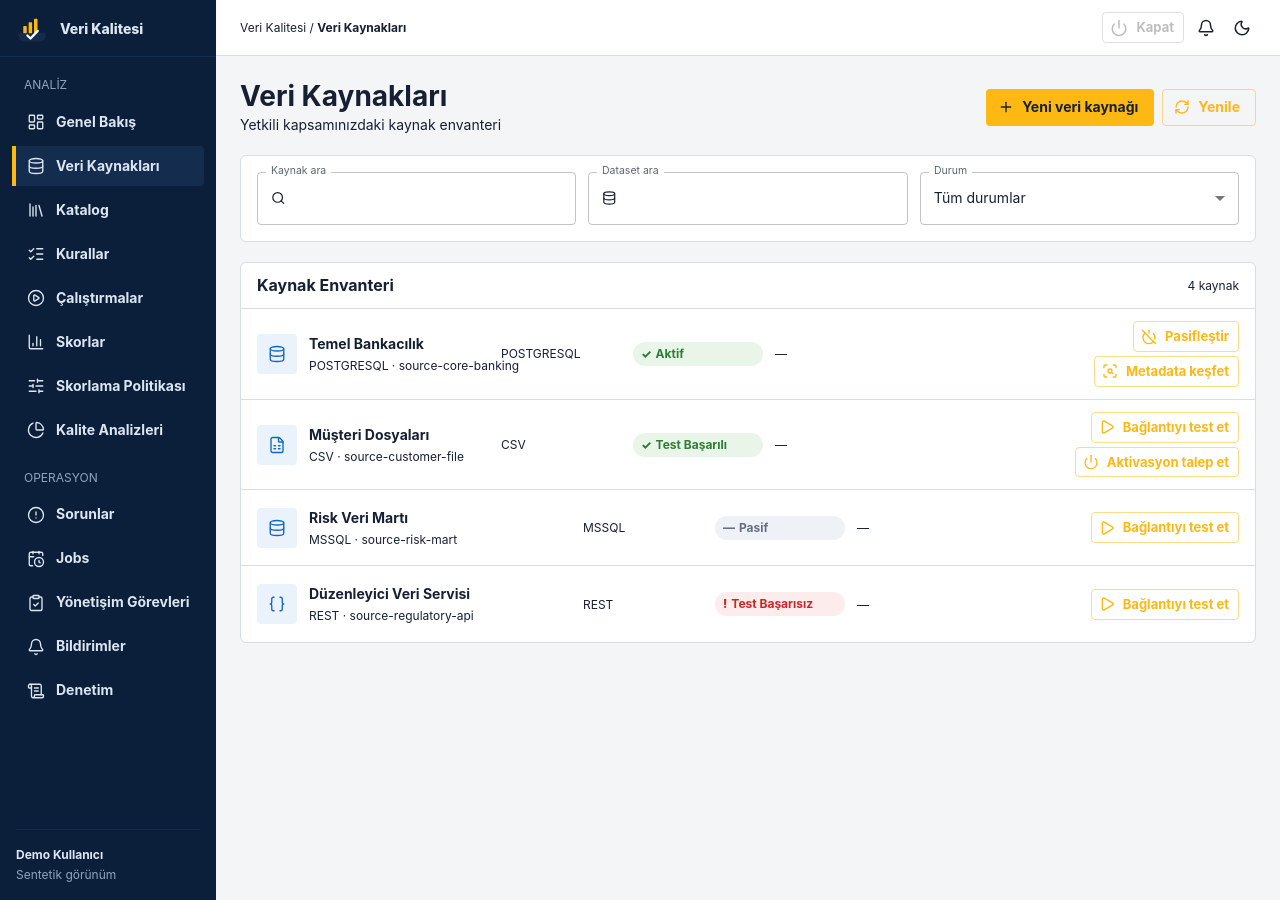
Test: Veri Kaynakları ekranı › create formunda owner/username/password yoktur ve secret referansı vardır
Step 1. Click the button "Yeni veri kaynağı" → x=1070, y=107, box [986, 89, 1154, 126]
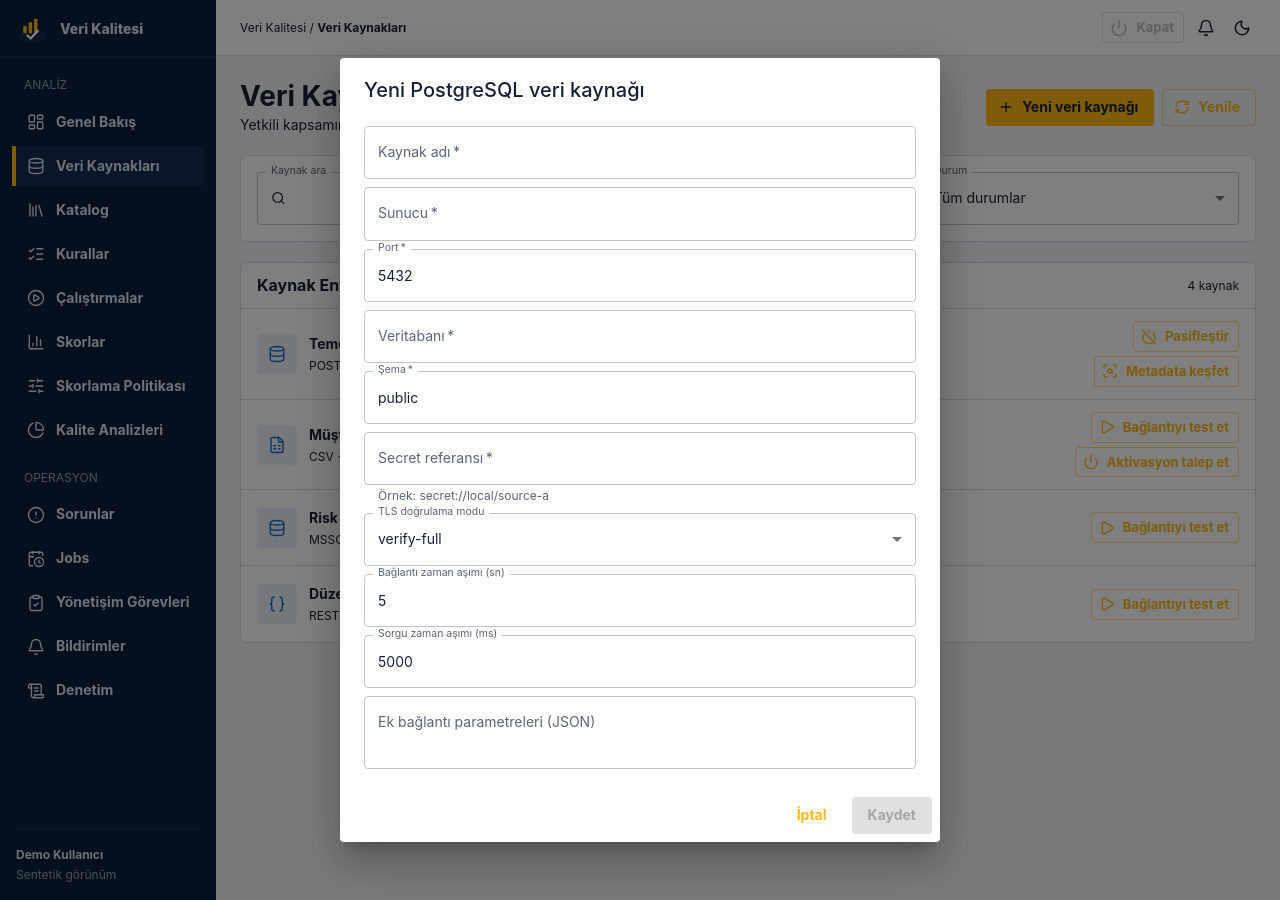
Check: the field labelled "Secret referansı *" is shown, box [364, 432, 916, 485]
